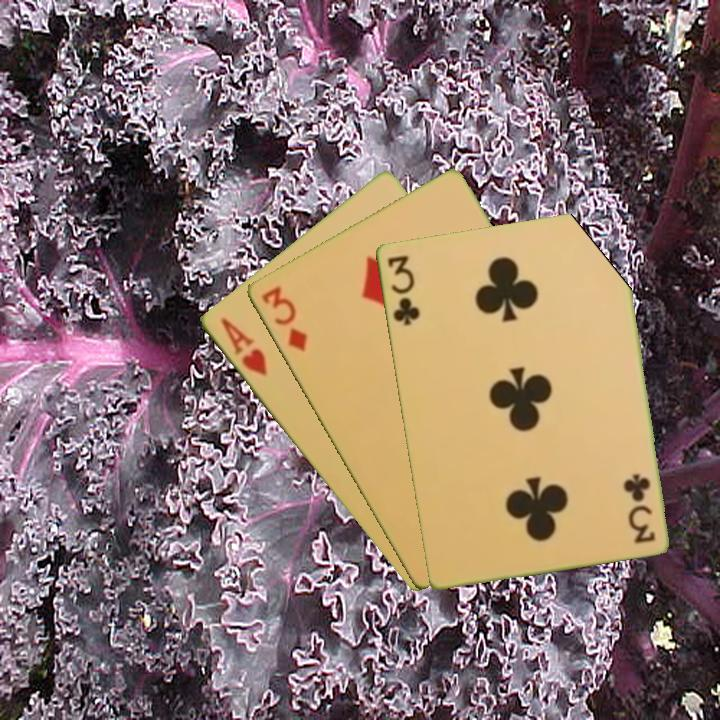3c: (383, 251, 422, 329), (623, 470, 658, 546)
3d: (257, 282, 310, 356)
Ah: (216, 314, 270, 379)
